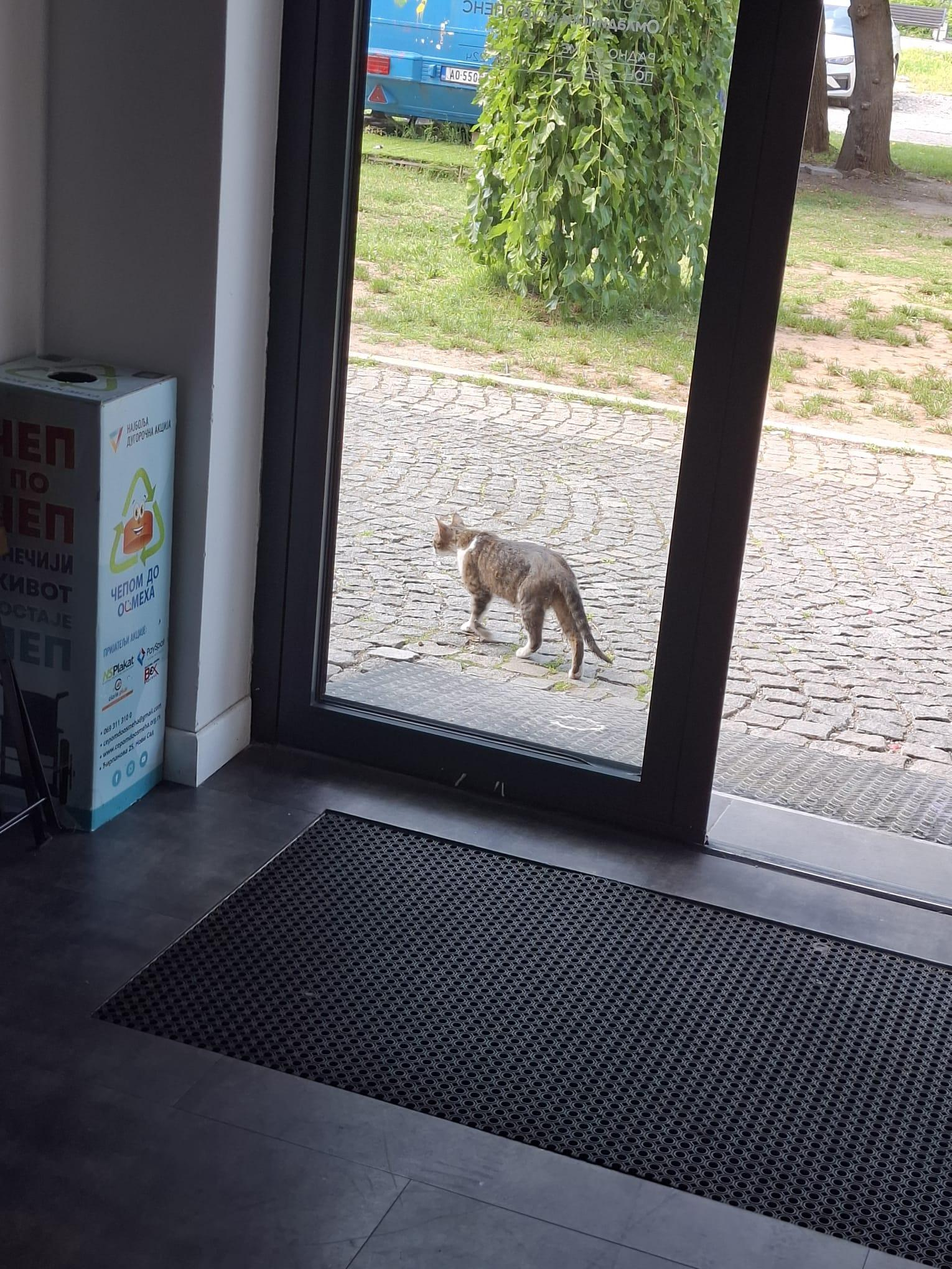macka: (430, 513, 614, 681)
